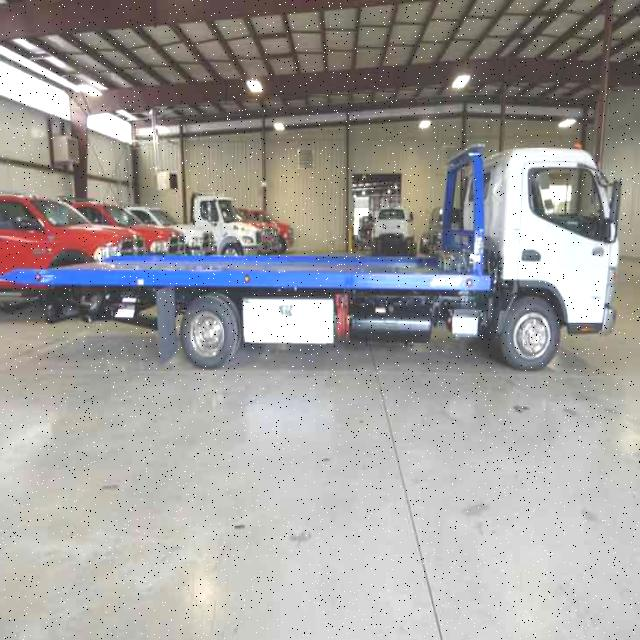truck: (1, 146, 627, 368)
